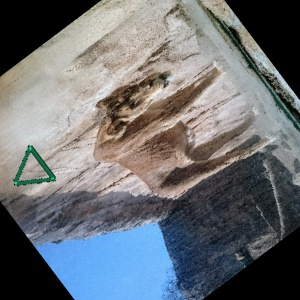triangle: (10, 142, 58, 187)
